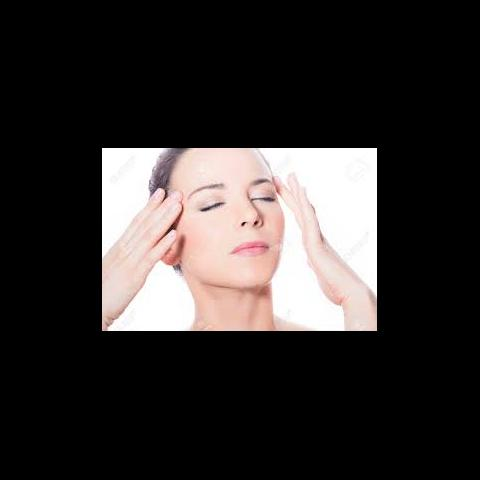closed: (181, 176, 278, 216)
